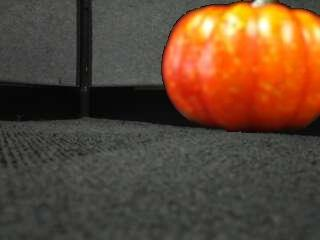Pumpkin: (161, 0, 320, 133)
